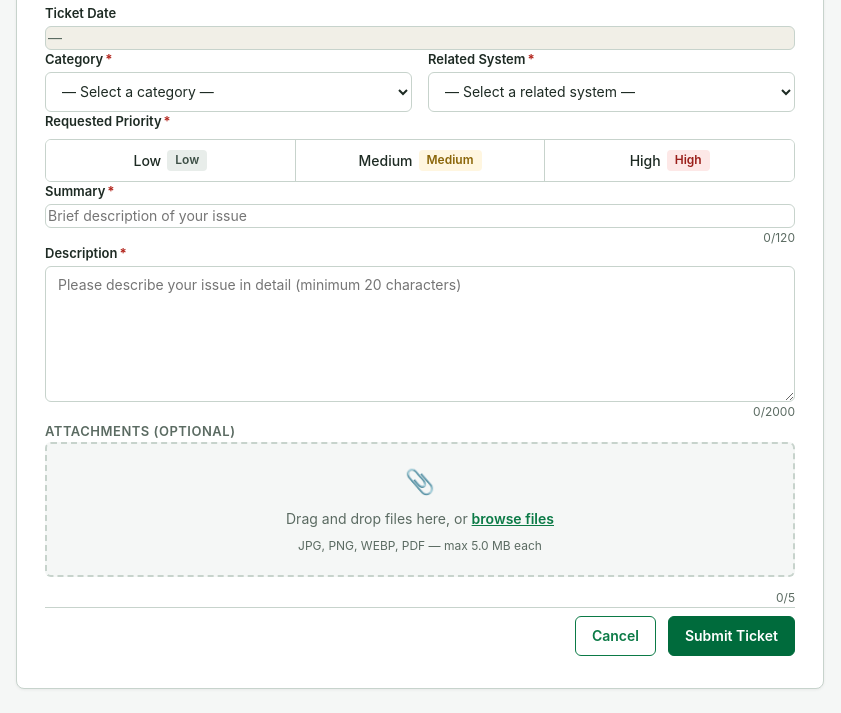
Test: CreateTicketPage — validation › submitting empty form › shows all field-level errors when submitting completely empty form
The image size is (841, 713).
(page scrolled)
Click the button "Submit Ticket" at (731, 636), box [668, 616, 795, 656]
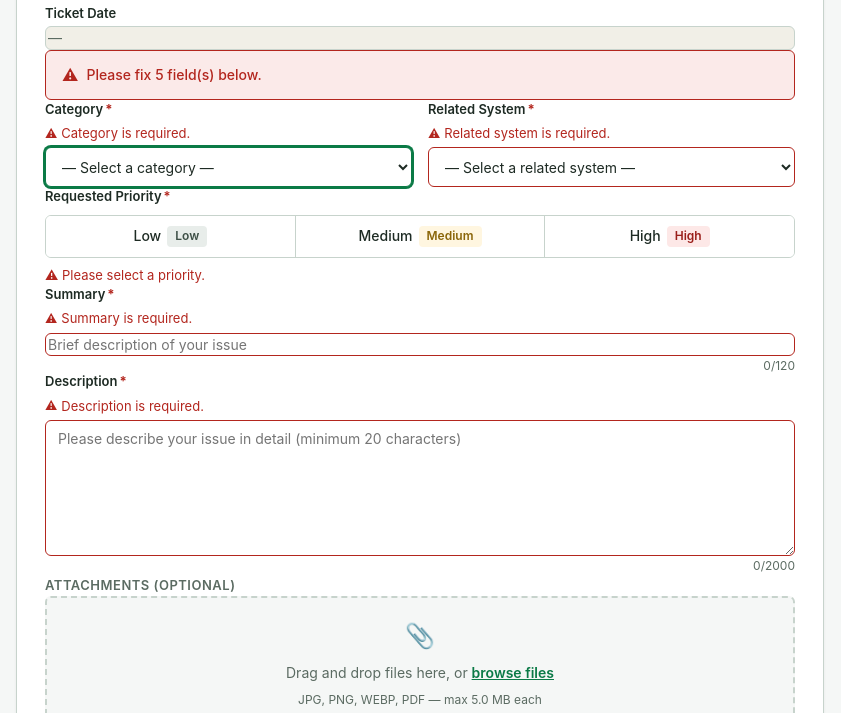
Result: the text "Category is required." is shown at [61, 125, 190, 141]
Result: the text "Related system is required." is shown at [444, 125, 610, 141]
Result: the text "Summary is required." is shown at [61, 310, 192, 326]
